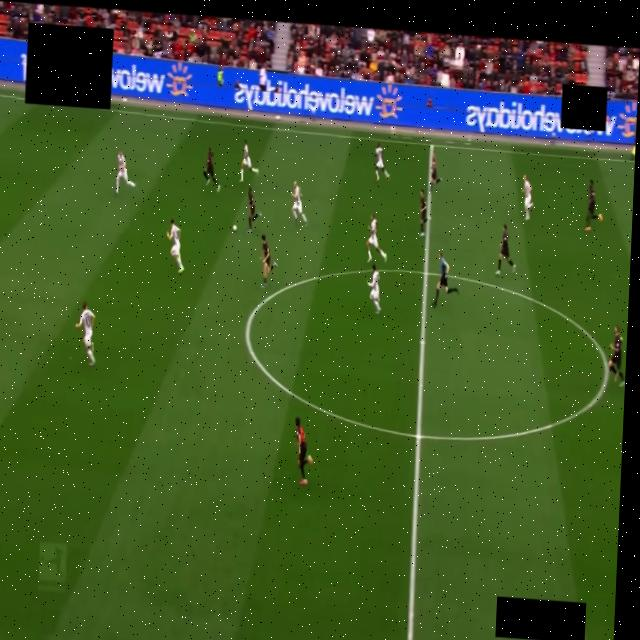ball: (232, 225, 237, 232)
player: (75, 303, 94, 366), (295, 417, 312, 485), (495, 225, 515, 276), (366, 214, 386, 262), (608, 326, 624, 386), (166, 219, 183, 273), (115, 152, 135, 194), (585, 180, 601, 231), (261, 235, 276, 287), (203, 147, 219, 192), (240, 140, 257, 182), (418, 189, 432, 237), (291, 181, 306, 225), (367, 264, 380, 314), (247, 187, 260, 233), (374, 143, 389, 181), (522, 175, 533, 221), (430, 152, 441, 187), (630, 132, 635, 160)
referee: (432, 251, 458, 306)
